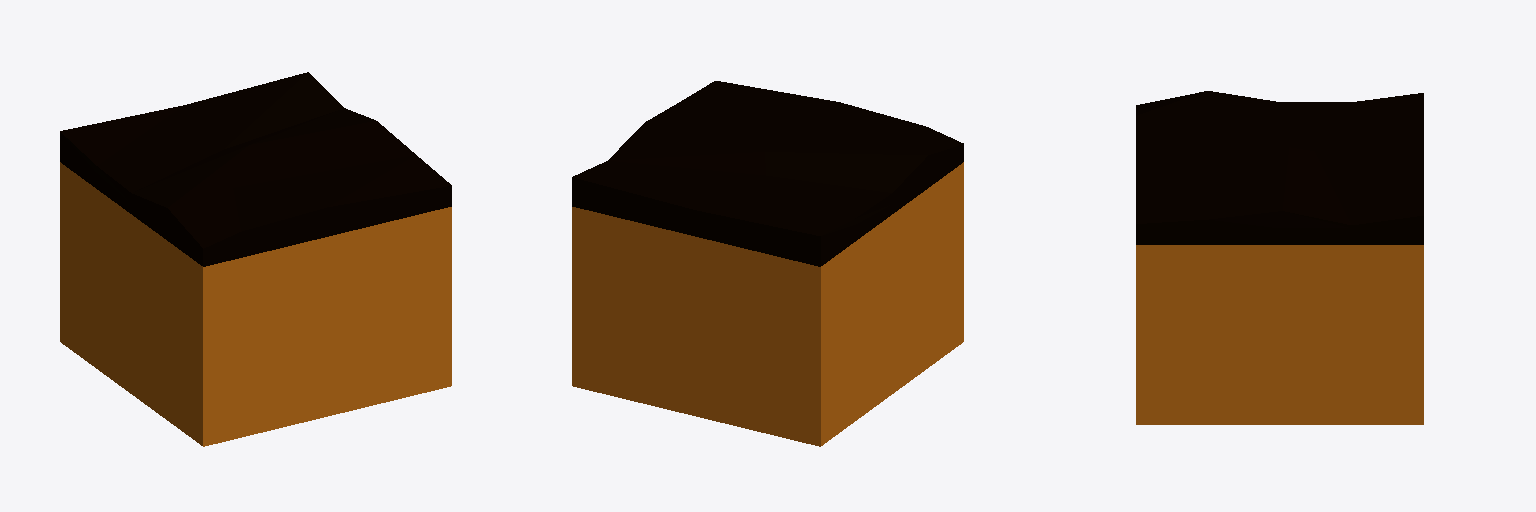
Rendered from grassW6.obj.
3 renders of one model, left to right at view 1: azimuth 30°, elevation 25°; view 2: azimuth 150°, elevation 25°; view 3: azimuth 270°, elevation 25°, orthographic.
Parts seen in each view (by area): view 1: Cube; view 2: Cube; view 3: Cube.
Part boxes in pixels (x1,y1,x2,y2): Cube: (60, 72, 451, 446); Cube: (572, 81, 963, 446); Cube: (1136, 91, 1423, 424).
Bounding box in the file's own units: 159 × 132 × 159.